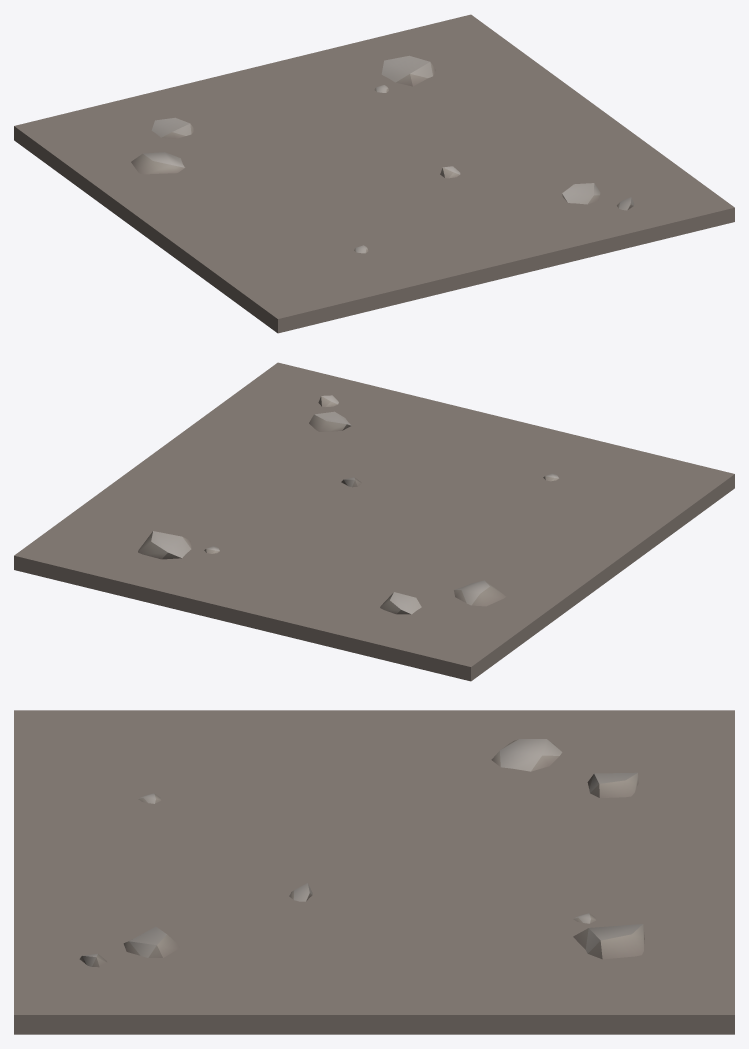
Rendered from floor_dirt_large.gltf.
3 views of the same model, one above another, from view 1: azimuth 30°, elevation 25°; view 2: azimuth 150°, elevation 25°; view 3: azimuth 270°, elevation 25° (orthographic). The views are drawn at different scales.
Visible parts, largest first — view 1: floor_dirt_large; view 2: floor_dirt_large; view 3: floor_dirt_large.
Boxes of the visible parts, x1,y1,x2,y2 form: floor_dirt_large: (14,14,734,333); floor_dirt_large: (14,362,734,681); floor_dirt_large: (14,710,734,1034).
Size of the model in its own units: 4 by 0.2086 by 4.
Materials: 1 (1 with a texture image).
